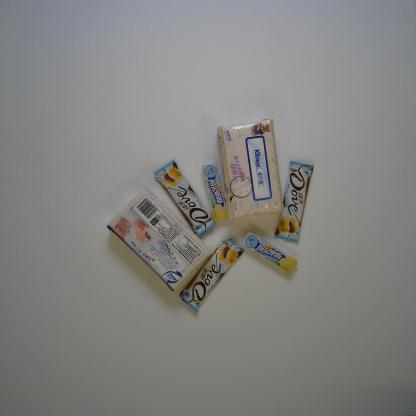Candy: (241, 230, 300, 274), (201, 161, 229, 224)
Chocolate: (178, 238, 246, 312), (152, 160, 214, 238), (273, 160, 315, 244)
Tissue: (104, 187, 214, 293), (216, 117, 285, 221)
